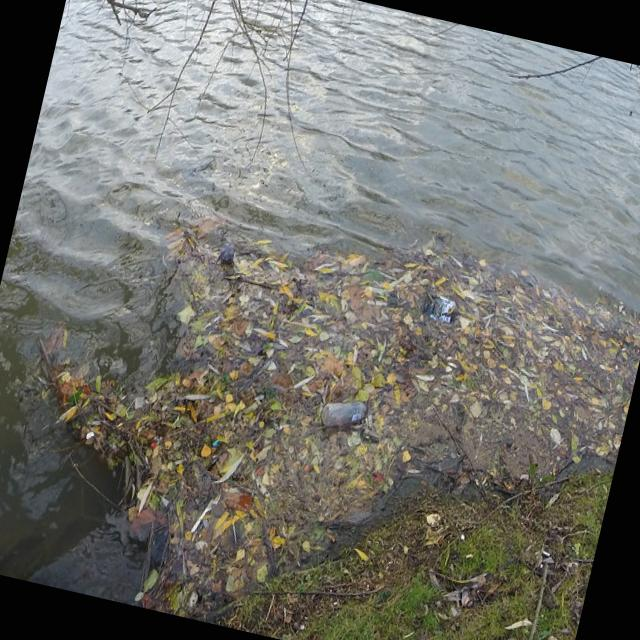Trash: (315, 388, 373, 438), (416, 286, 460, 328)
